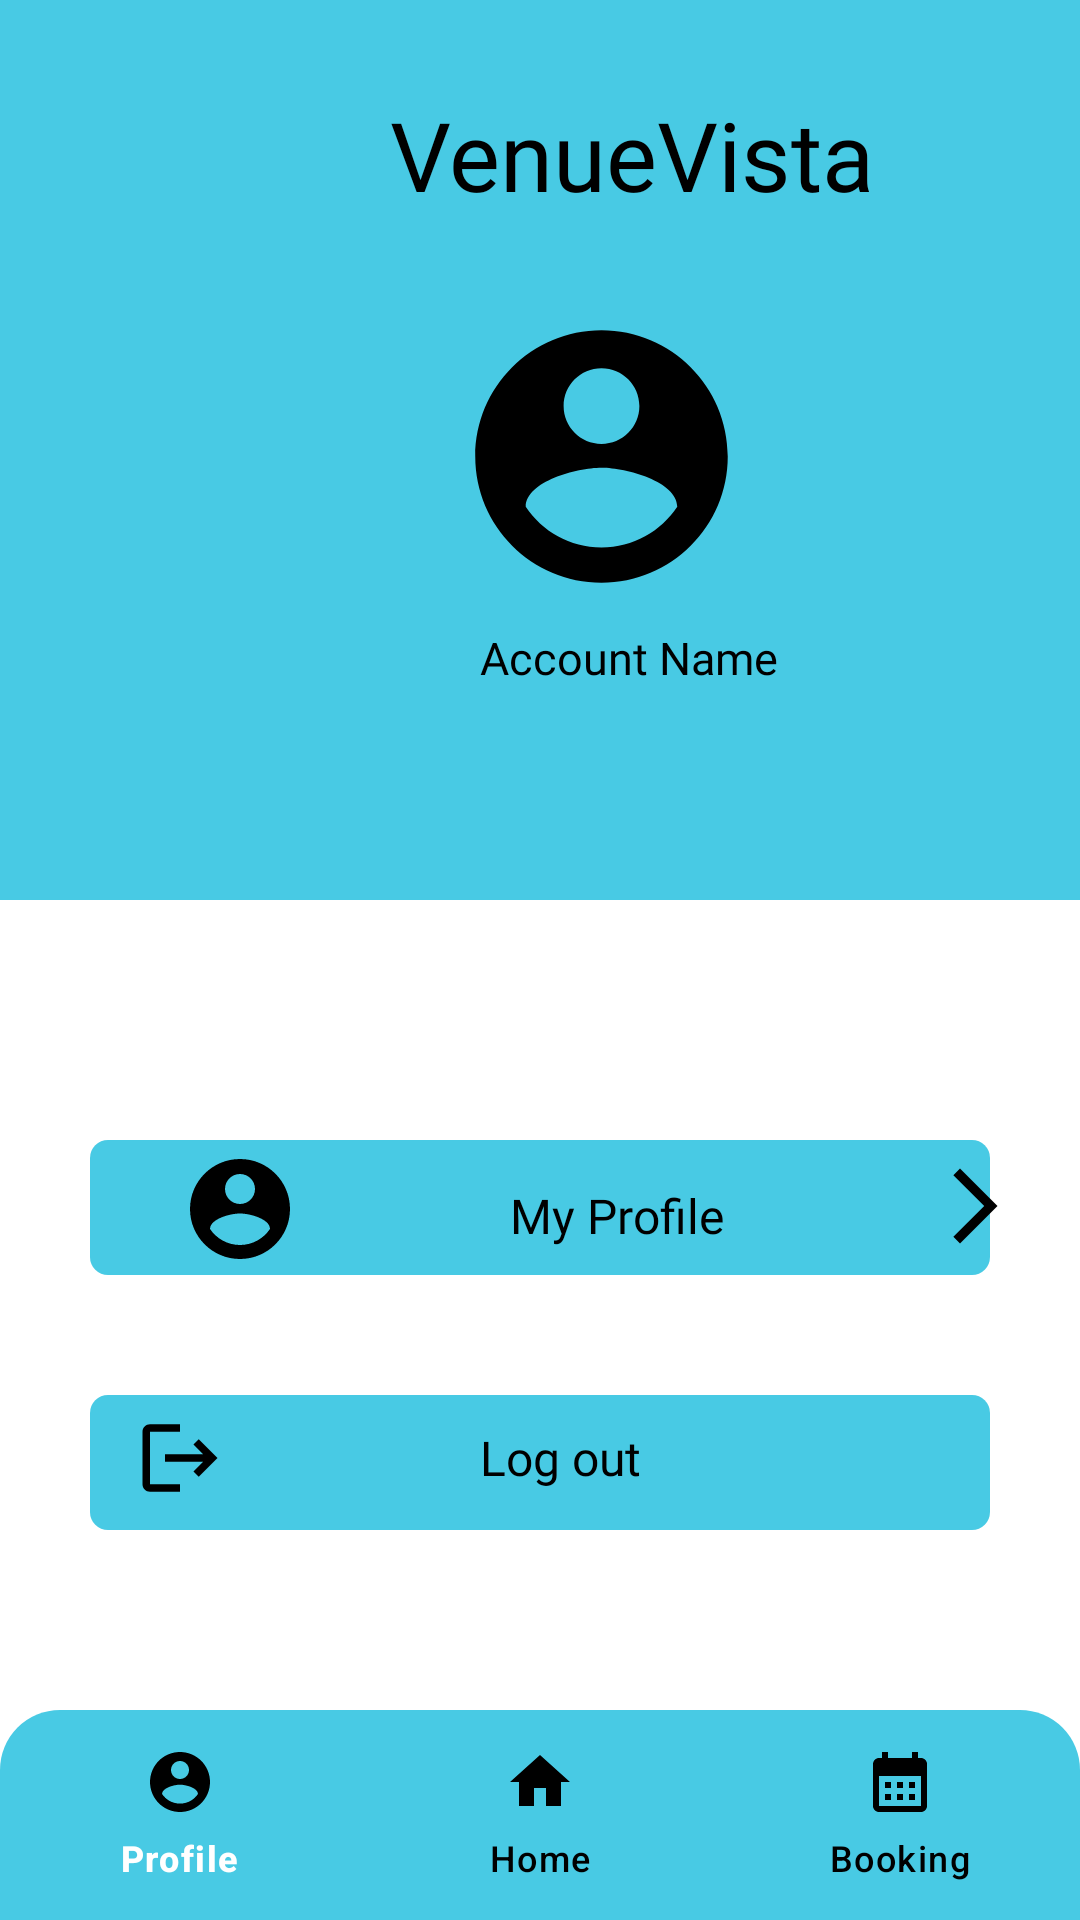

Screen size 1080w x 1920h. Icon name, then its center in pixels as [x,y]:
account circle: [601,456], [240,1209]
